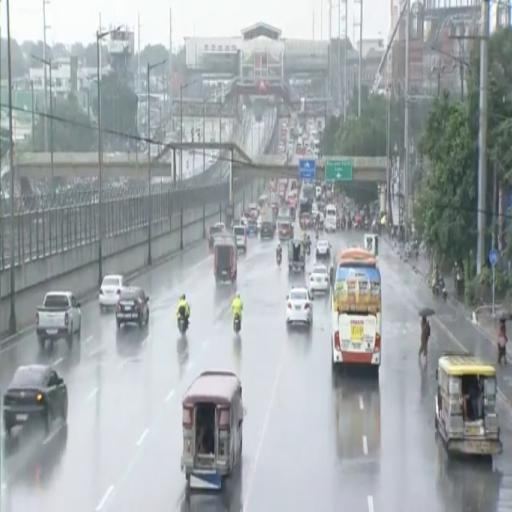bus: (332, 248, 381, 373), (325, 204, 337, 232)
car: (3, 364, 67, 435), (116, 287, 149, 328), (286, 286, 313, 326), (99, 275, 124, 309), (309, 265, 329, 295), (260, 221, 275, 239), (316, 240, 330, 259), (246, 218, 258, 236), (240, 217, 247, 227), (257, 216, 261, 232)
jeepney: (182, 371, 244, 489), (435, 354, 502, 455)
motorcycle: (438, 280, 447, 301), (178, 315, 187, 334), (234, 315, 241, 333), (432, 284, 439, 297), (442, 286, 447, 301), (276, 251, 281, 265), (306, 240, 310, 254), (316, 229, 318, 239)
truck: (36, 292, 80, 349), (260, 206, 275, 239), (261, 206, 276, 229)
